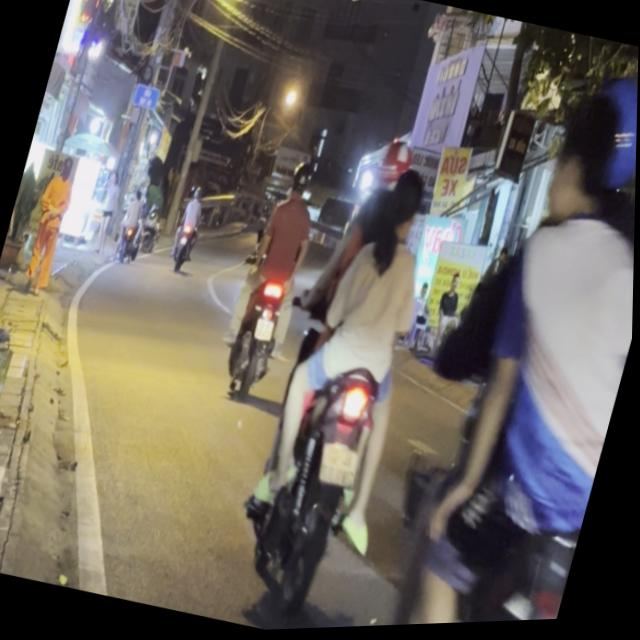helmet: (568, 71, 638, 237), (371, 138, 420, 206), (617, 153, 637, 279), (288, 157, 320, 202)
licenseplate: (345, 51, 639, 630), (216, 127, 474, 633), (216, 151, 335, 408)
motorcyclist: (537, 81, 632, 240), (374, 163, 435, 253)
nohelmet: (318, 444, 365, 492), (254, 318, 277, 345)
